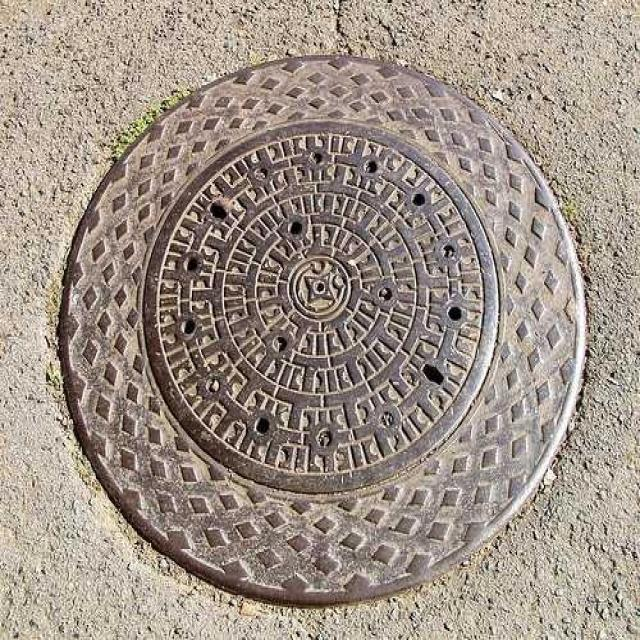manhole: (60, 55, 585, 604)
